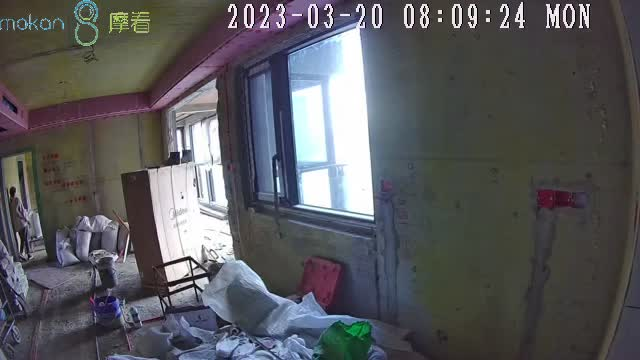people: (8, 185, 34, 261)
window: (241, 21, 377, 231), (182, 125, 227, 210)
